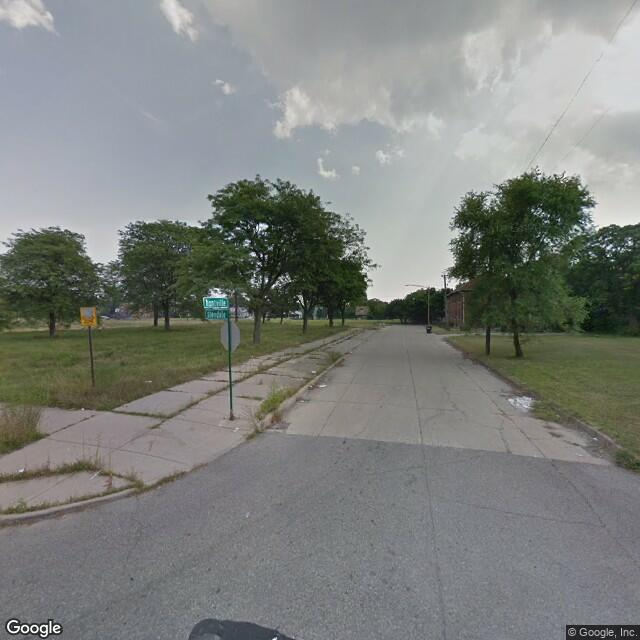litter: (313, 382, 329, 390), (140, 378, 154, 387), (73, 405, 88, 413), (13, 465, 27, 473), (588, 434, 602, 442), (306, 370, 318, 376)
